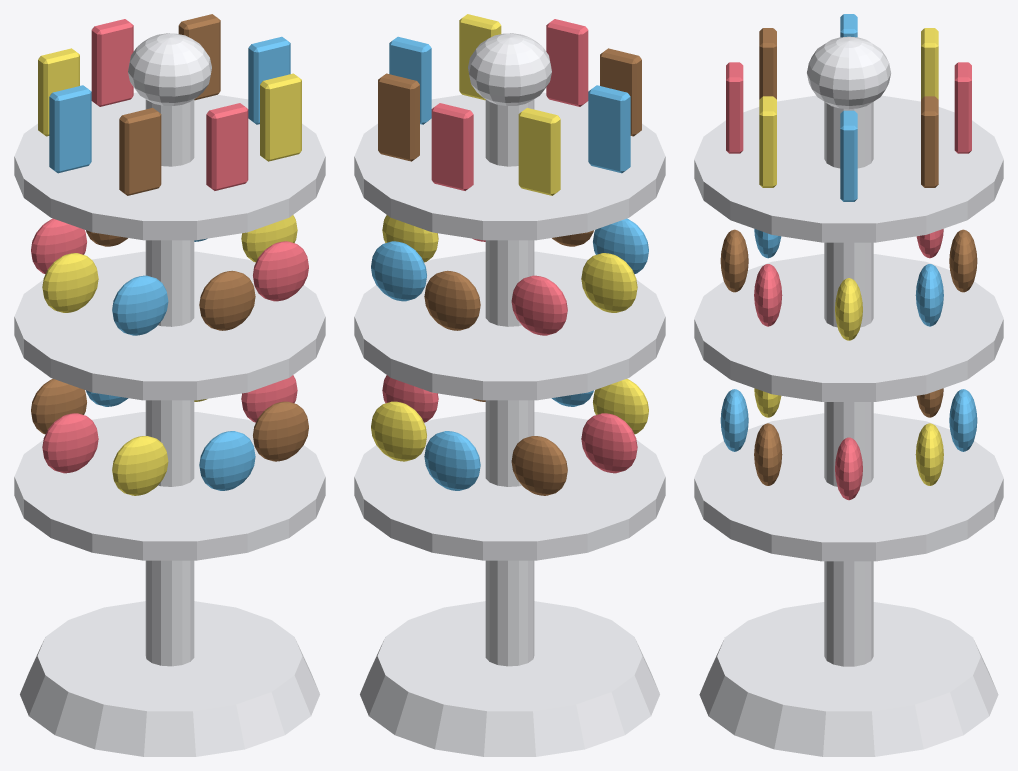
Rendered from rak_permen.fbx.
3 renders of one model, left to right at view 1: azimuth 30°, elevation 25°; view 2: azimuth 150°, elevation 25°; view 3: azimuth 270°, elevation 25°, orthographic.
Visible parts, largest first — view 1: rak_permen; view 2: rak_permen; view 3: rak_permen.
Part boxes in pixels (x1=…): rak_permen: x1=14, y1=14, x2=325, y2=756; rak_permen: x1=354, y1=14, x2=665, y2=756; rak_permen: x1=694, y1=14, x2=1003, y2=756.
Bounding box in the file's own units: 173 × 410 × 176.
Materials: 1 (1 with a texture image).
